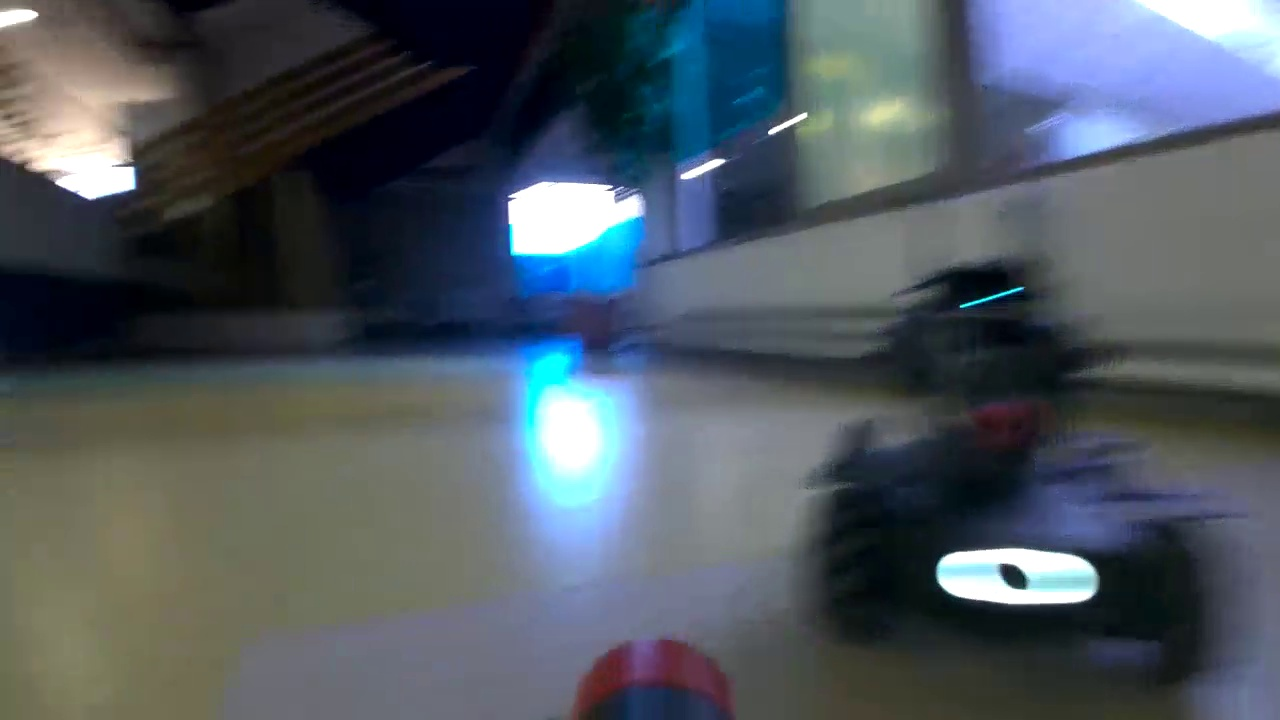robot: (801, 255, 1239, 685)
